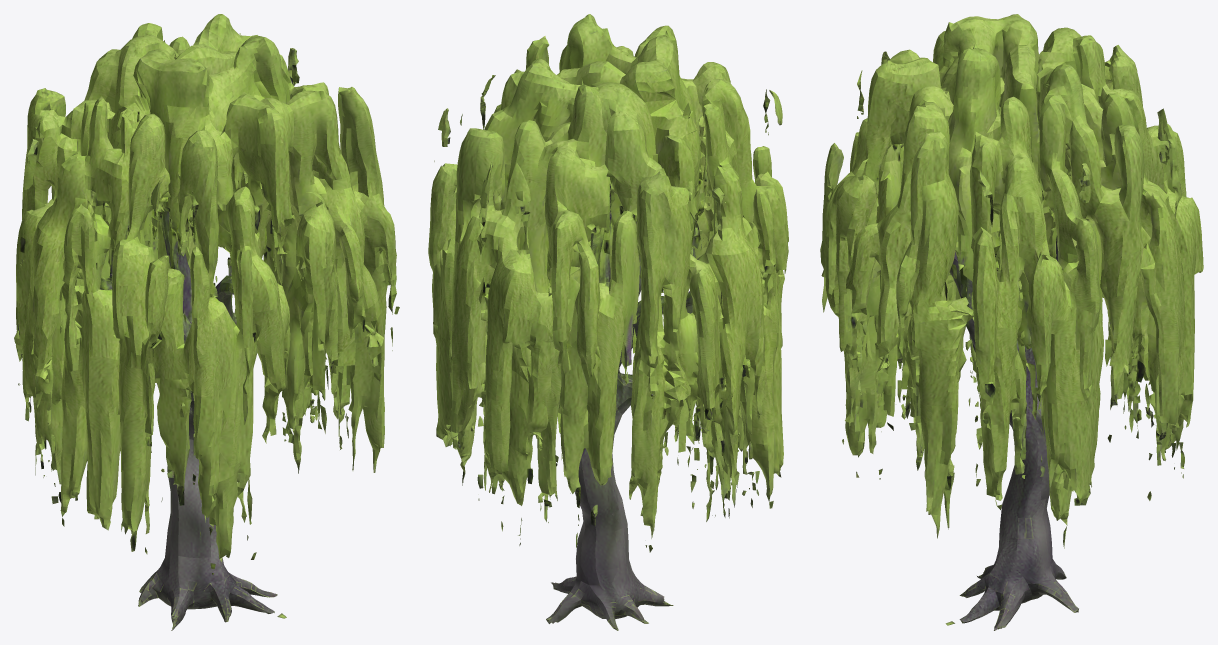
File: raw_meshy_model.glb
3 views of the same model, side by side, from view 1: azimuth 30°, elevation 25°; view 2: azimuth 150°, elevation 25°; view 3: azimuth 270°, elevation 25° (orthographic).
Size of the model in its own units: 1.1 by 1.87 by 1.14.
Materials: 1 (1 with a texture image).
